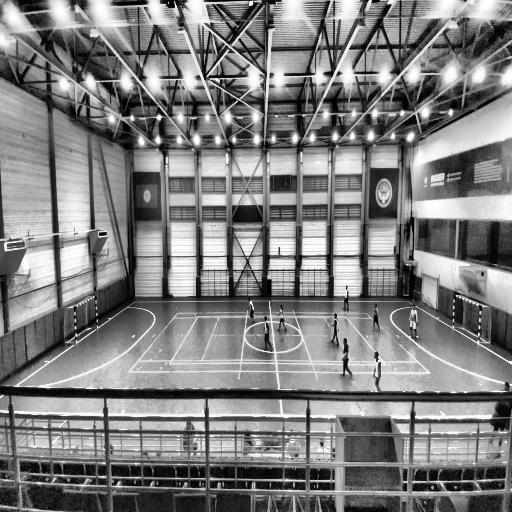player: (485, 380, 512, 456), (340, 337, 352, 381), (372, 350, 382, 392), (408, 303, 418, 340), (263, 315, 273, 352), (330, 312, 340, 346), (371, 302, 382, 332), (277, 304, 287, 334), (342, 284, 350, 313), (247, 296, 255, 325)
